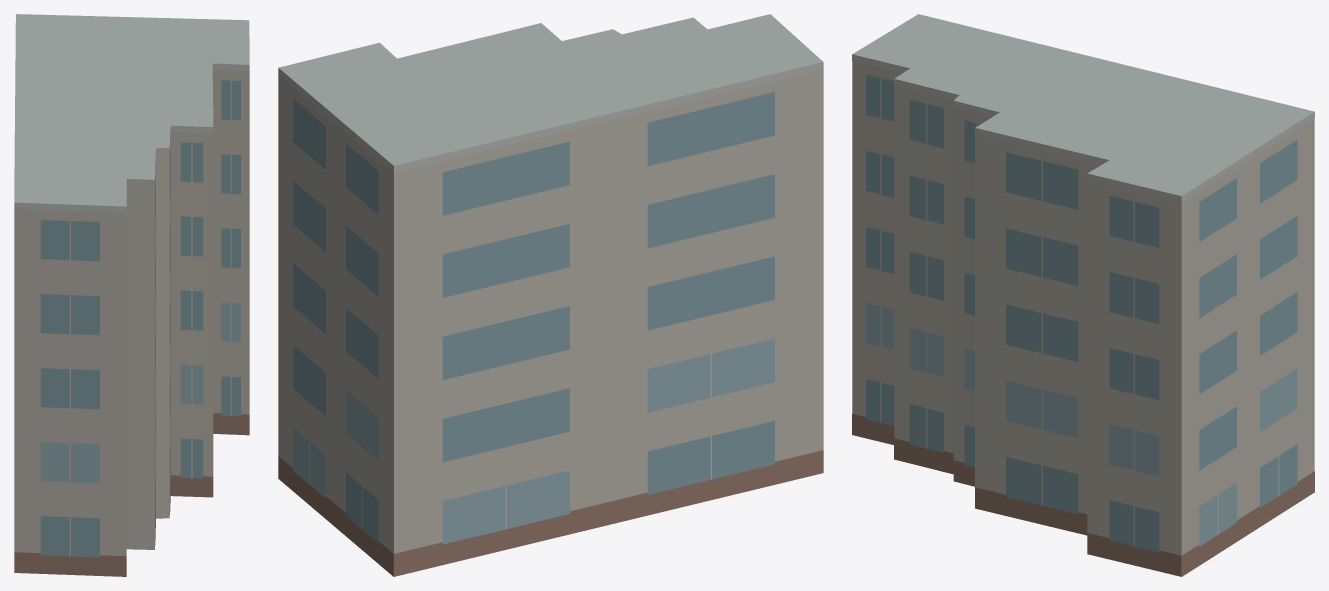
Rendered from survey-upis-32754052.glb.
The picture shows the model from 3 angles, left to right: view 1: azimuth 30°, elevation 25°; view 2: azimuth 150°, elevation 25°; view 3: azimuth 270°, elevation 25°; orthographic projection. The views are drawn at different scales.
Parts seen in each view (by area): view 1: survey-upis-32754052.tmp; view 2: survey-upis-32754052.tmp; view 3: survey-upis-32754052.tmp.
Boxes of the visible parts, bbox=[...] form: survey-upis-32754052.tmp: bbox=[14, 14, 249, 576]; survey-upis-32754052.tmp: bbox=[278, 14, 823, 576]; survey-upis-32754052.tmp: bbox=[852, 14, 1314, 576].
Size of the model in its own units: 14.48 by 14.1 by 15.54.
